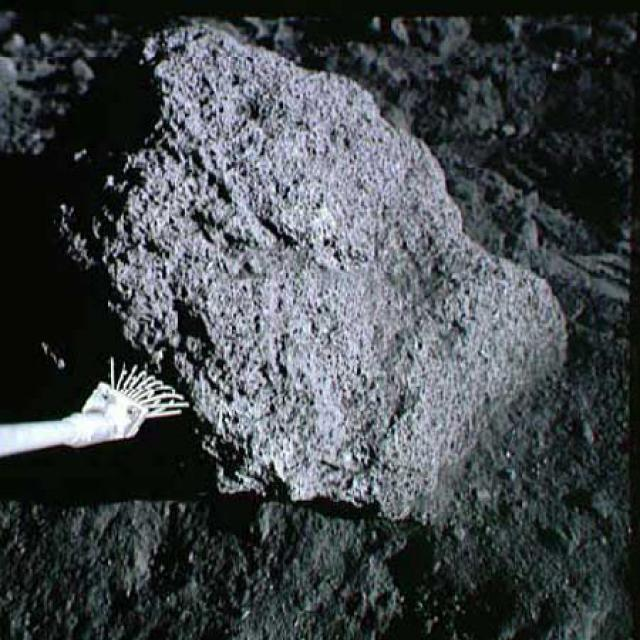artifact: (0, 344, 195, 473)
rock: (49, 25, 566, 523)
